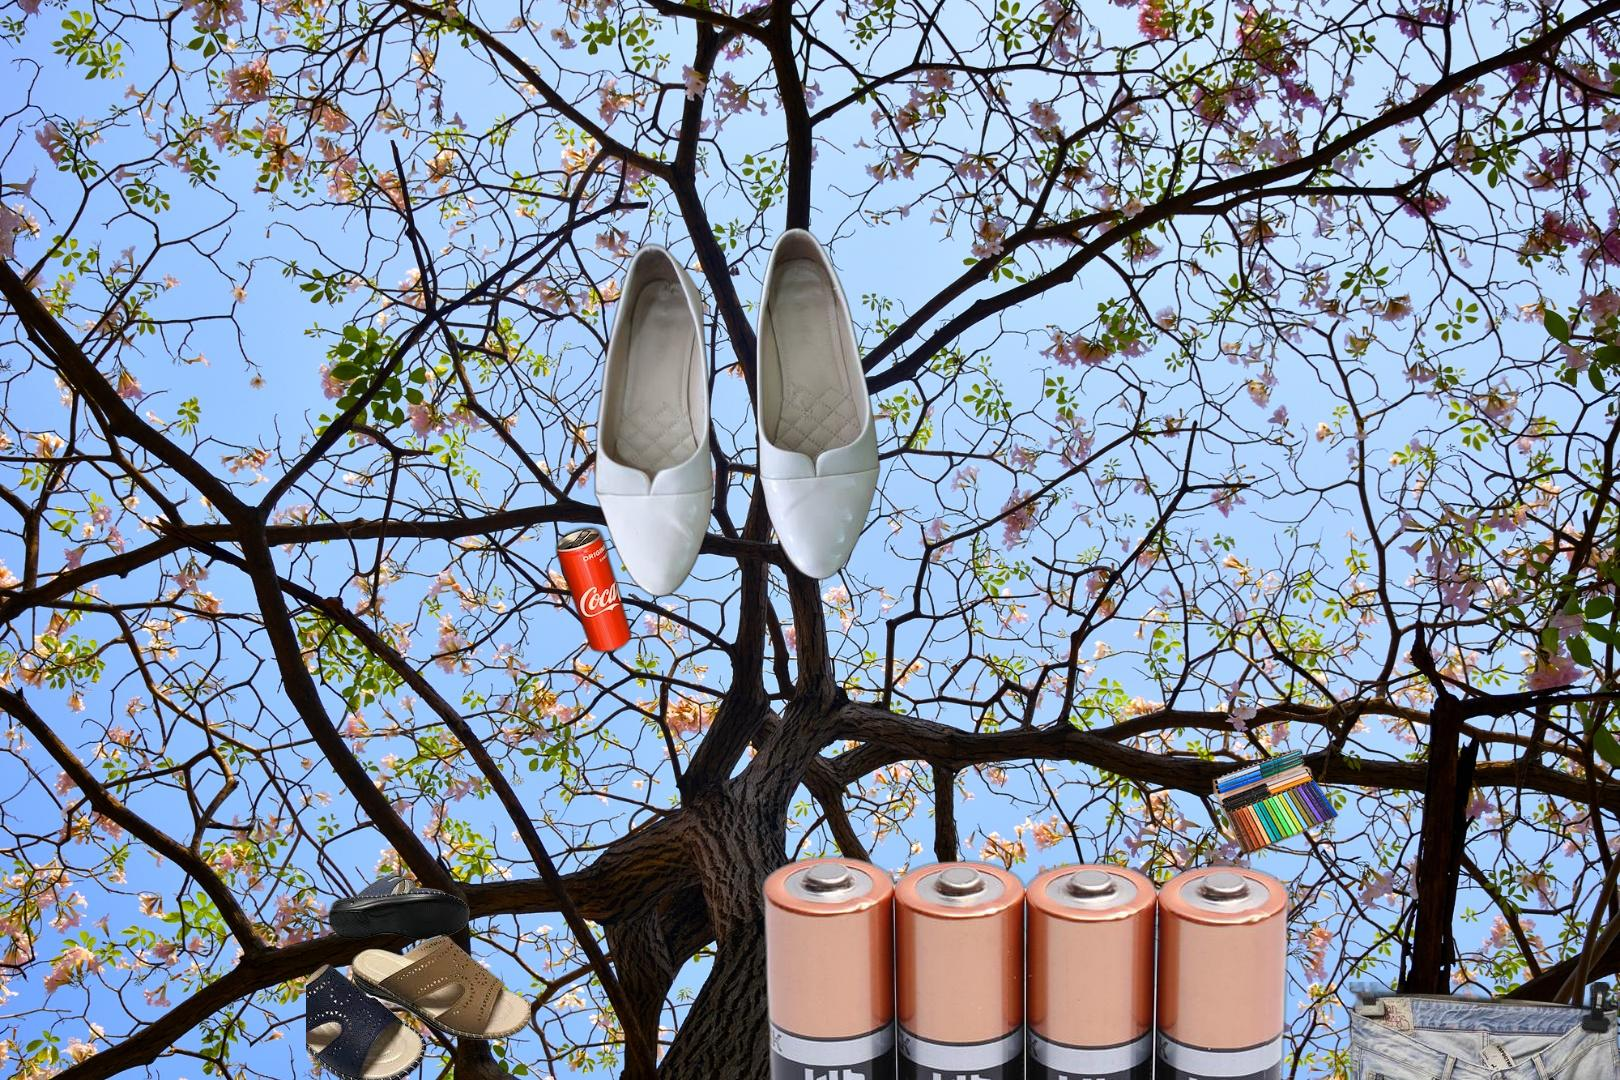battery: (756, 850, 1297, 1080)
clothes: (1346, 982, 1620, 1080)
metal-cans: (551, 523, 636, 658)
penholder: (1208, 747, 1342, 855)
shoes: (591, 223, 884, 601), (306, 873, 532, 1080)
